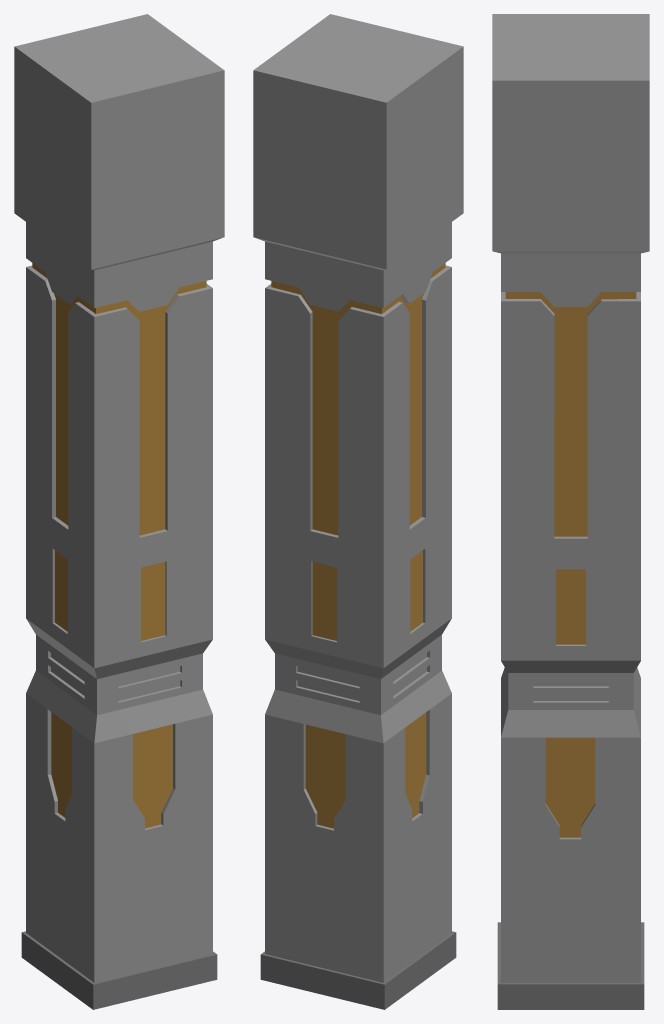
File: Column_3.glb
3 renders of one model, left to right at view 1: azimuth 30°, elevation 25°; view 2: azimuth 150°, elevation 25°; view 3: azimuth 270°, elevation 25°, orthographic. The views are drawn at different scales.
Parts seen in each view (by area): view 1: Column_3; view 2: Column_3; view 3: Column_3.
Boxes of the visible parts, <box> form: Column_3: <box>14,14,224,1009</box>; Column_3: <box>253,14,463,1009</box>; Column_3: <box>492,14,649,1009</box>.
Bounding box in the file's own units: 0.2327 × 1.52 × 0.2327.
